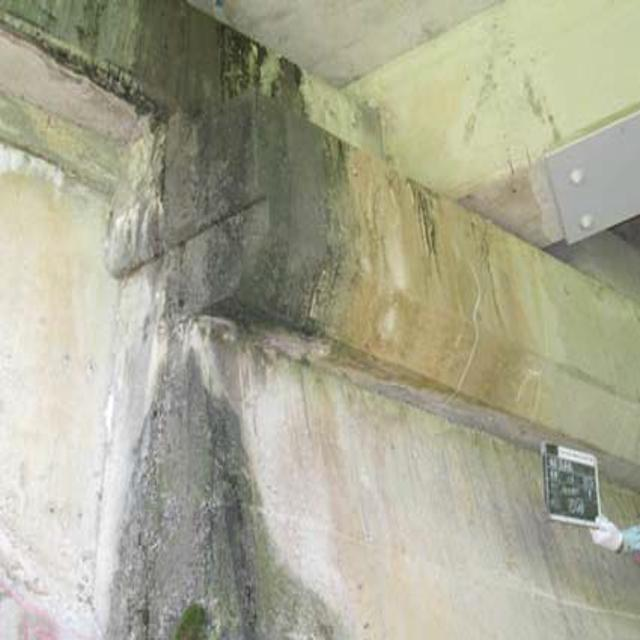leakage: (133, 4, 327, 640)
